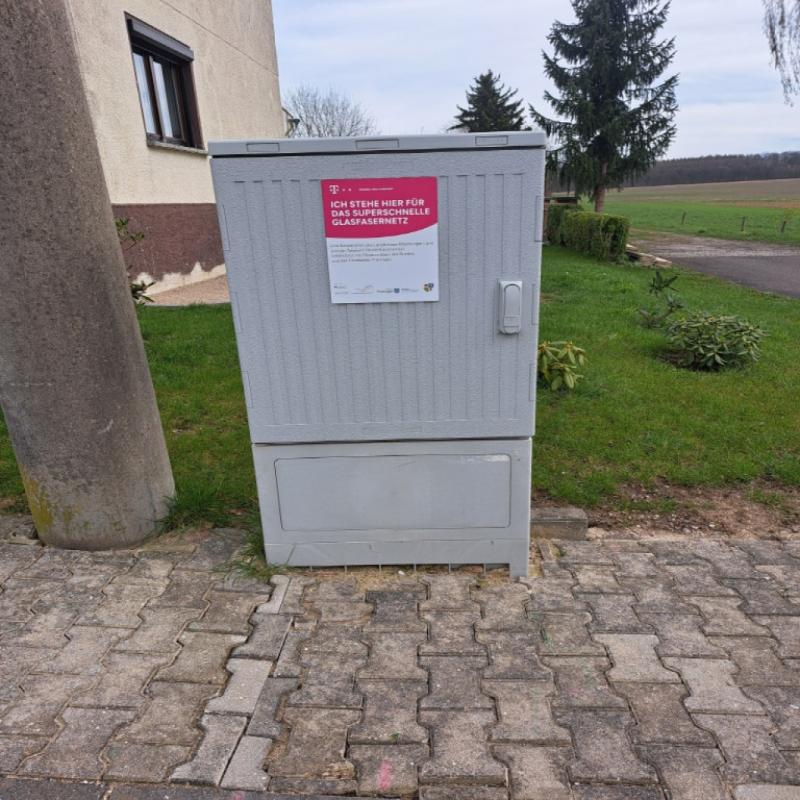NT-Gehause: (213, 131, 540, 561)
Steaker: (322, 179, 440, 306)
